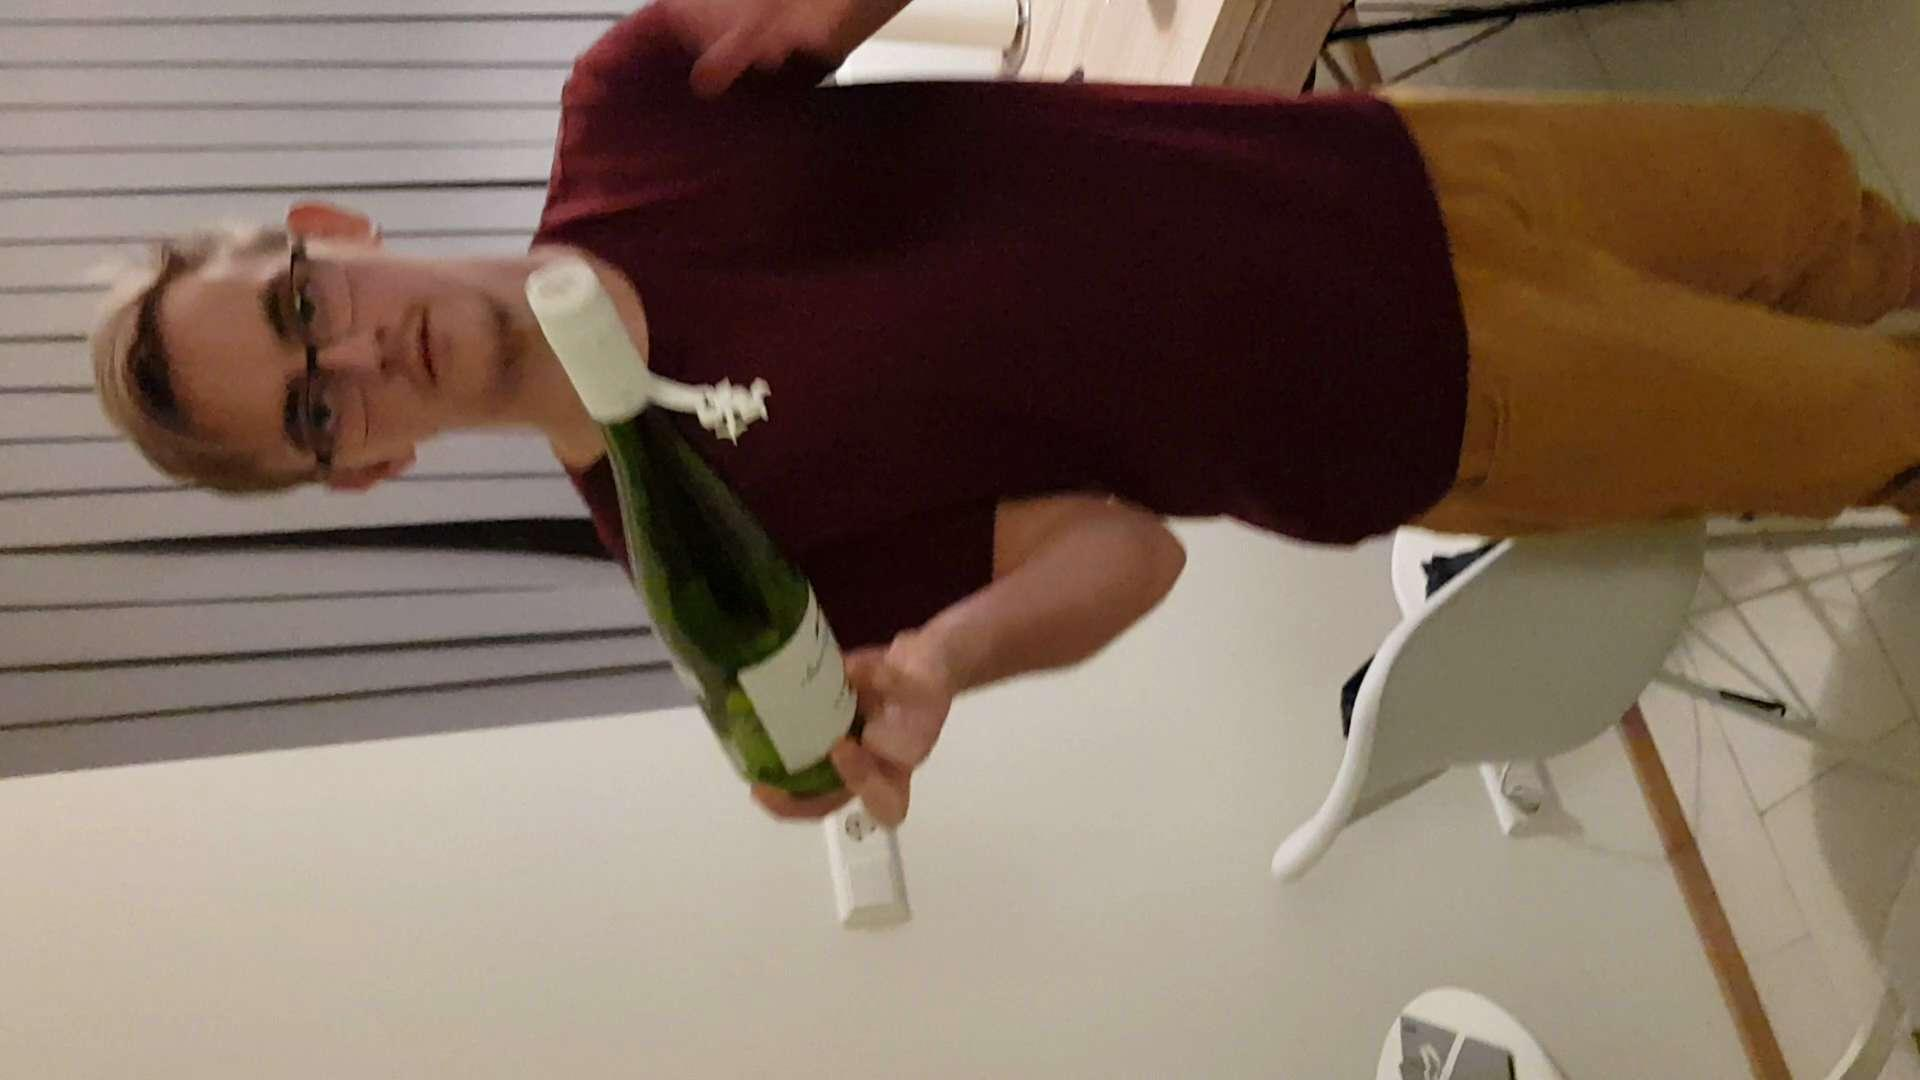Bottle: (516, 247, 876, 811)
